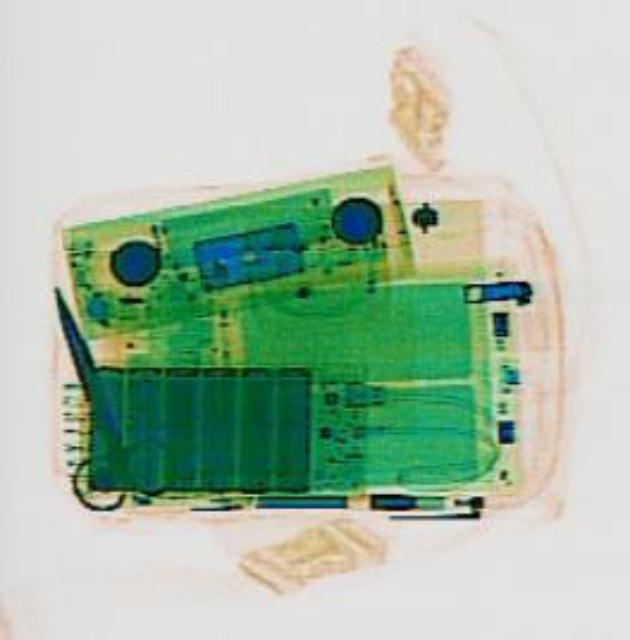Scissors: (4, 270, 177, 516)
